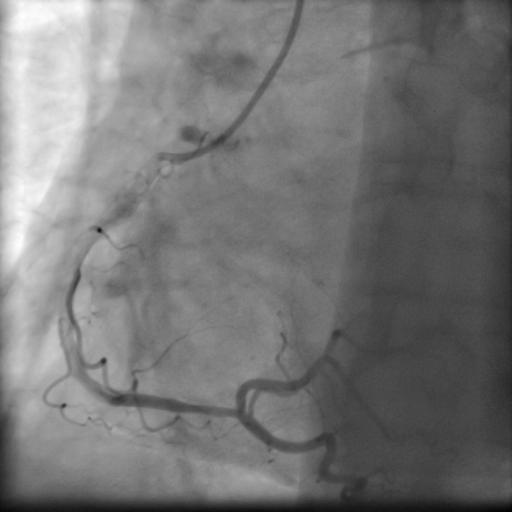Stenosis: (174, 395, 232, 424)
